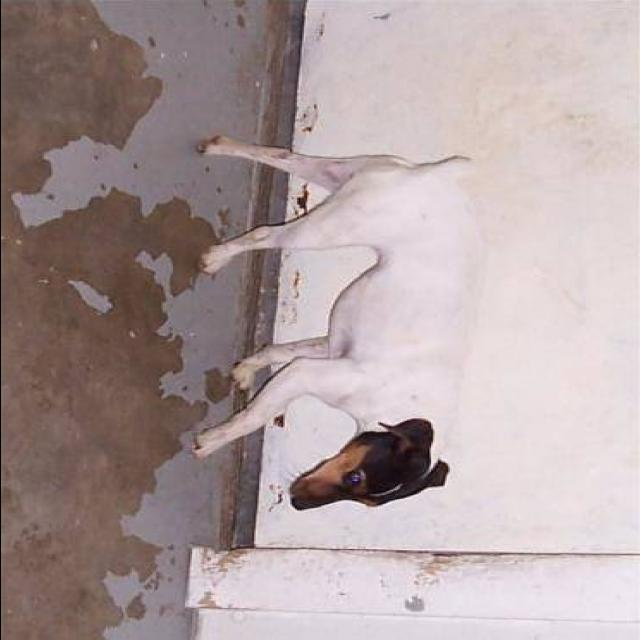dog: (166, 134, 498, 522)
